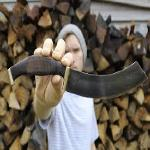Pisau: (0, 43, 150, 103)
